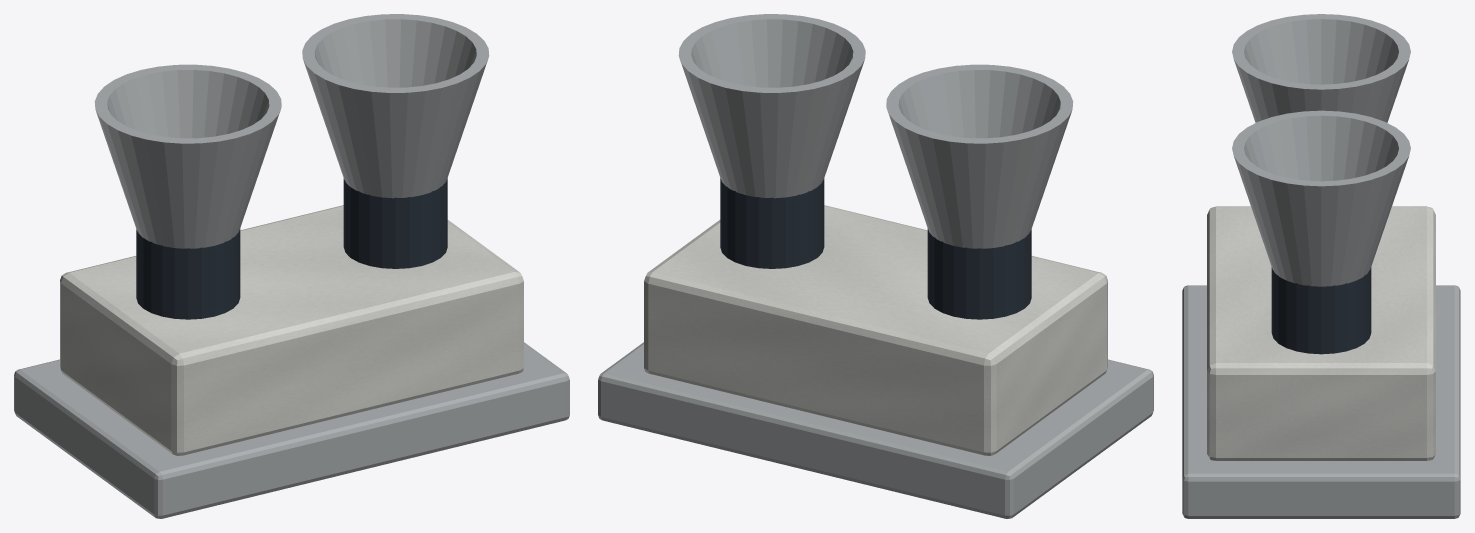
The model's file is cargo_rcs_block.glb.
The picture shows the model from 3 angles, left to right: view 1: azimuth 30°, elevation 25°; view 2: azimuth 150°, elevation 25°; view 3: azimuth 270°, elevation 25°; orthographic projection. The views are drawn at different scales.
Visible parts, largest first — view 1: Valve_Block, RCS_Mount, Thruster_Nozzle, Thruster_Nozzle.001, Thruster_Chamber, Thruster_Chamber.001; view 2: Valve_Block, RCS_Mount, Thruster_Nozzle, Thruster_Nozzle.001, Thruster_Chamber, Thruster_Chamber.001; view 3: Valve_Block, RCS_Mount, Thruster_Nozzle.001, Thruster_Nozzle, Thruster_Chamber.001.
Boxes of the visible parts, x1,y1,x2,y2 form: Valve_Block: (60,205,523,455); RCS_Mount: (14,342,569,518); Thruster_Nozzle: (94,64,281,248); Thruster_Nozzle.001: (302,14,489,198); Thruster_Chamber: (136,228,240,319); Thruster_Chamber.001: (343,178,447,268); Valve_Block: (644,205,1107,455); RCS_Mount: (598,342,1153,518); Thruster_Nozzle: (886,64,1073,248); Thruster_Nozzle.001: (678,14,865,198); Thruster_Chamber: (927,228,1031,319); Thruster_Chamber.001: (720,178,824,268); Valve_Block: (1207,206,1435,460); RCS_Mount: (1182,285,1460,518); Thruster_Nozzle.001: (1232,110,1410,286); Thruster_Nozzle: (1232,14,1410,122); Thruster_Chamber.001: (1271,267,1371,354).
Size of the model in its own units: 0.46 by 0.36 by 0.28.
Materials: 3 (1 with a texture image).
